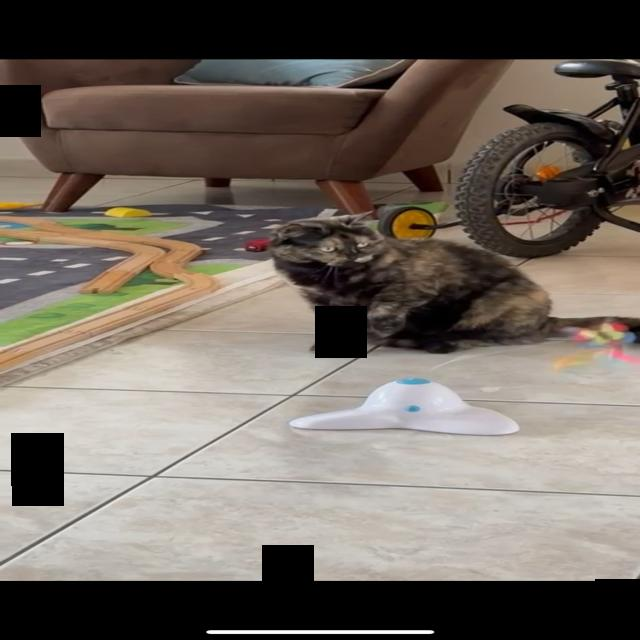authorized: (262, 211, 639, 355)
